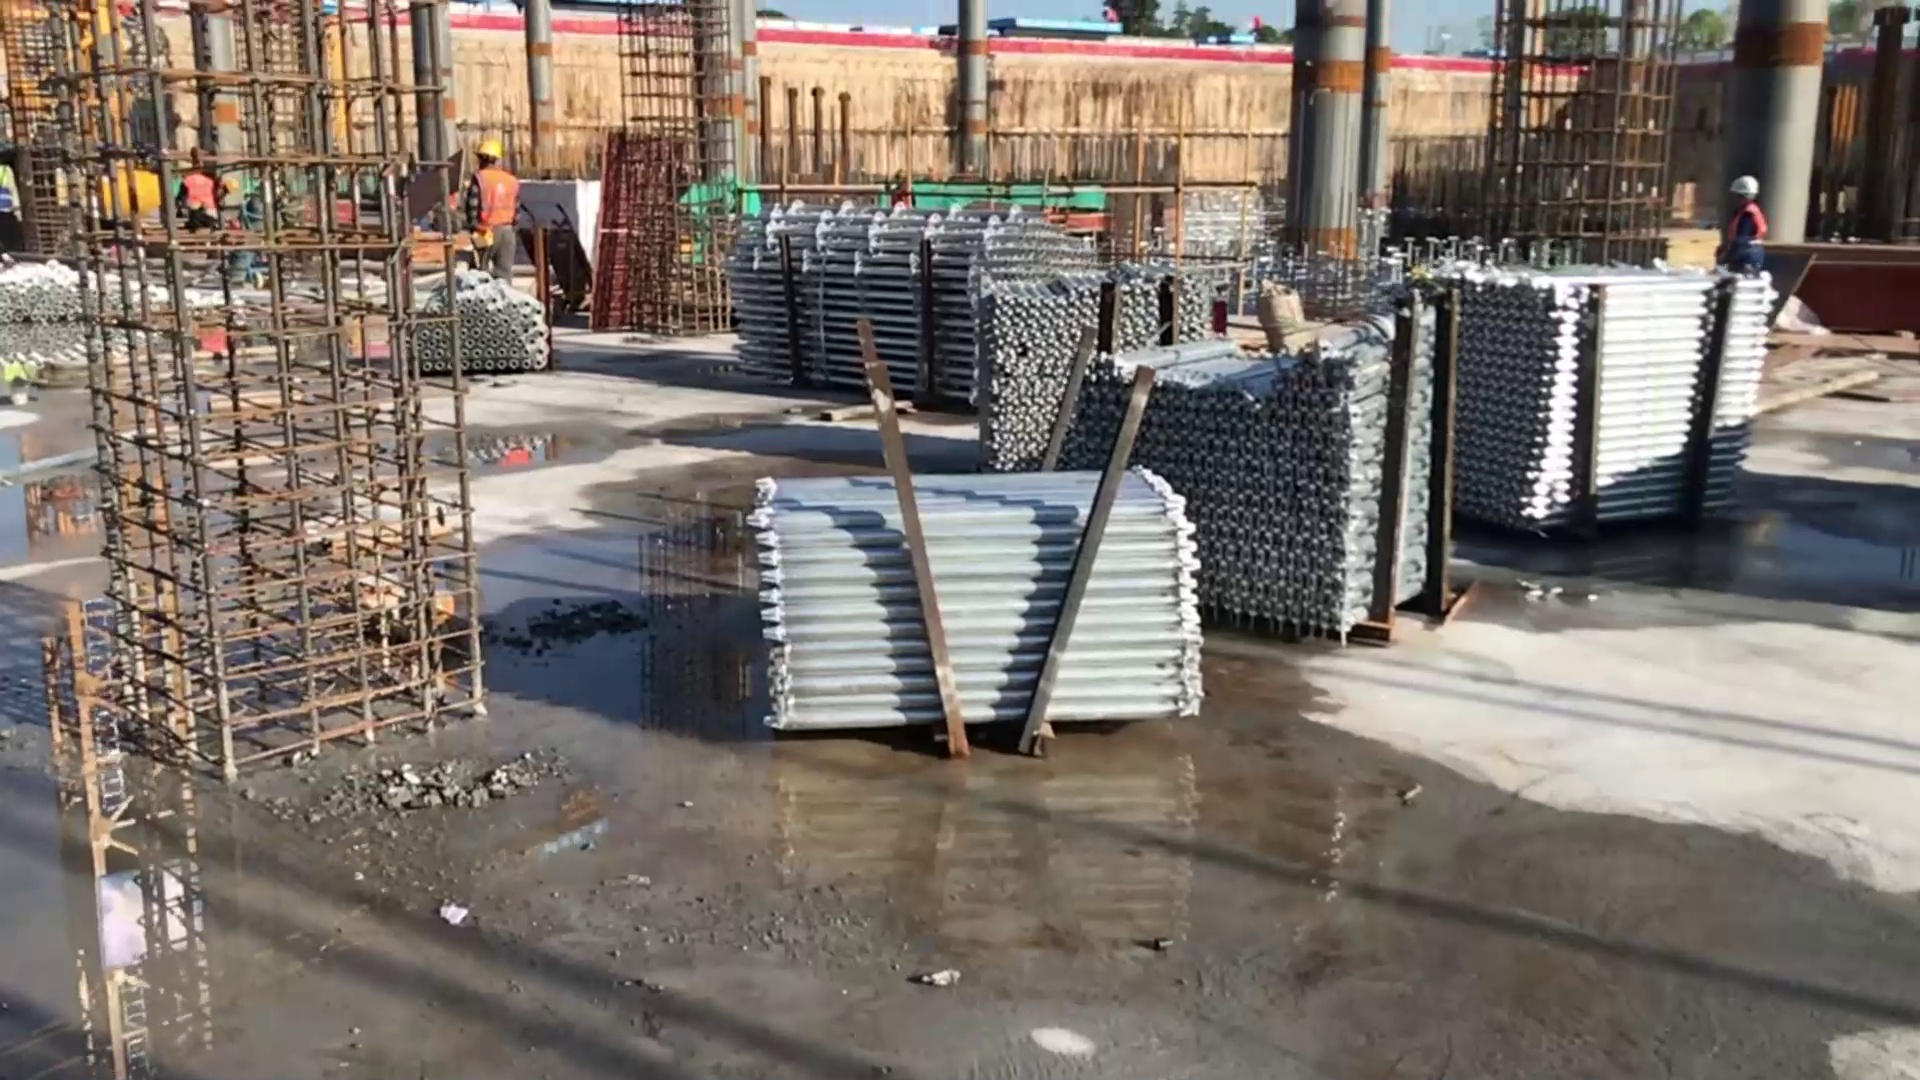scaffold: (752, 472, 1215, 724), (1089, 338, 1435, 632), (1444, 269, 1753, 539), (735, 207, 1073, 401), (990, 281, 1228, 462), (419, 291, 549, 371)
